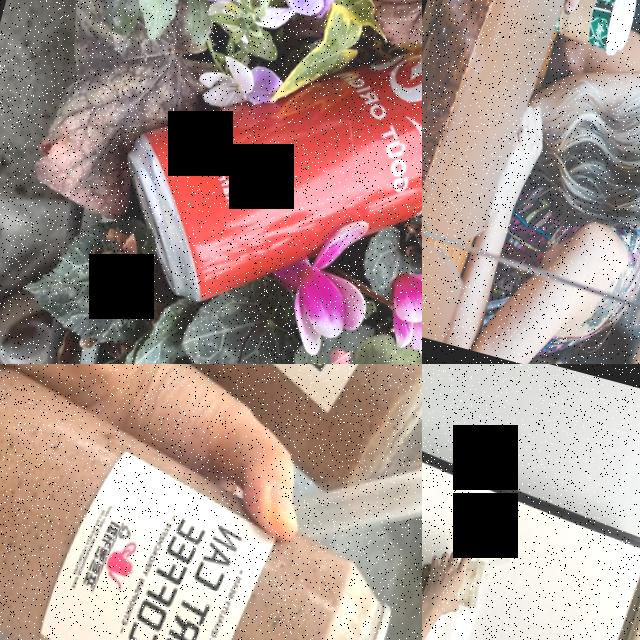can: (91, 0, 422, 364), (0, 364, 422, 640), (37, 364, 422, 525)
cup: (547, 0, 640, 60), (422, 541, 489, 614)
